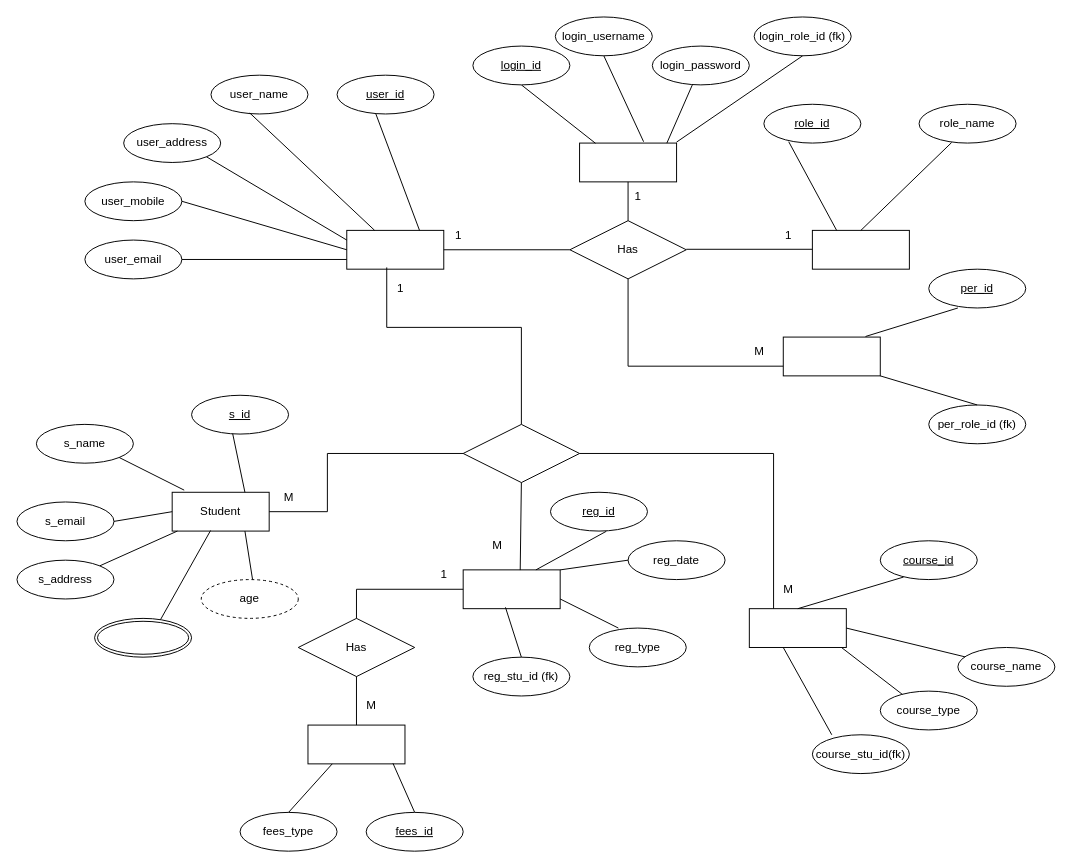
Some shapes in this 1072 by 868 pixel diagram are drawn without their labels. The shapes that lost their labels are listed below. From the top down, each one's centre as x and y in pixels, then its label:
At point 628,162: "Login".
At point 395,249: "User".
At point 860,249: "Roles".
At point 831,356: "Permission".
At point 521,453: "Manage".
At point 511,589: "Registration".
At point 143,637: "s_number".
At point 797,627: "Course".
At point 356,744: "Fees".
